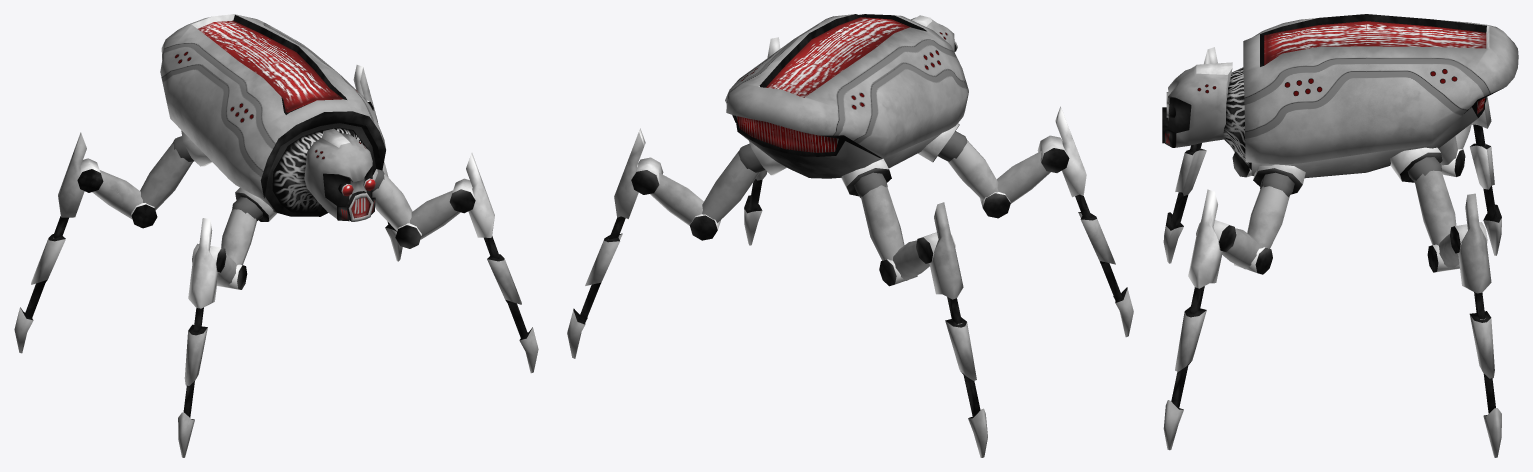
Rendered from stalker_enemy.glb.
The picture shows the model from 3 angles, left to right: view 1: azimuth 30°, elevation 25°; view 2: azimuth 150°, elevation 25°; view 3: azimuth 270°, elevation 25°; orthographic projection. The views are drawn at different scales.
Parts seen in each view (by area): view 1: Stalker; view 2: Stalker; view 3: Stalker.
Boxes of the visible parts, x1=… form: Stalker: x1=14, y1=14, x2=538, y2=457; Stalker: x1=567, y1=14, x2=1133, y2=457; Stalker: x1=1162, y1=14, x2=1518, y2=457.
Size of the model in its own units: 1.05 by 0.7682 by 0.7599.
Materials: 1 (1 with a texture image).
